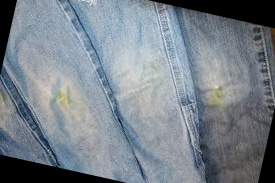earth: (53, 86, 74, 110), (207, 82, 227, 107)
